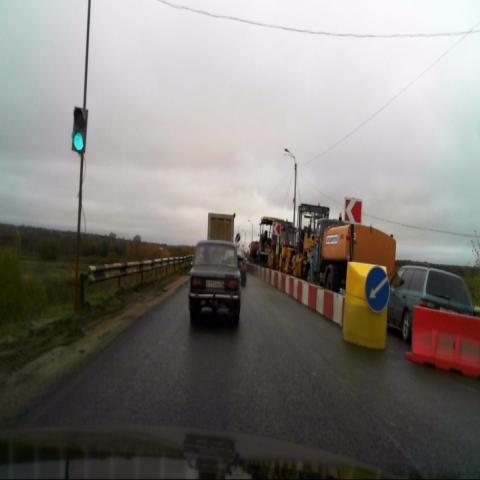4_2_2: (364, 266, 390, 312)
